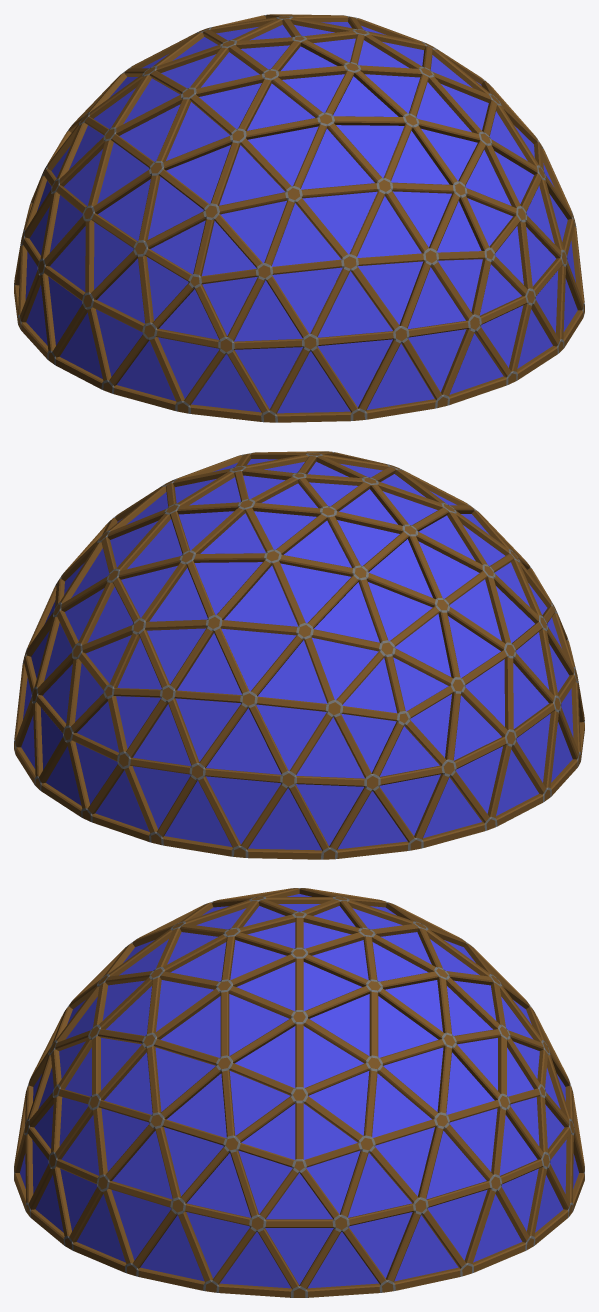
Rendered from dome.fbx.
The picture shows the model from 3 angles, top to bottom: view 1: azimuth 30°, elevation 25°; view 2: azimuth 150°, elevation 25°; view 3: azimuth 270°, elevation 25°; orthographic projection.
Parts seen in each view (by area): view 1: Icosphere; view 2: Icosphere; view 3: Icosphere.
Part boxes in pixels (box(x1,y1,x2,y2)): Icosphere: box(14, 14, 584, 422); Icosphere: box(14, 451, 584, 859); Icosphere: box(14, 888, 584, 1297).
Bounding box in the file's own units: 279 × 142 × 279.
